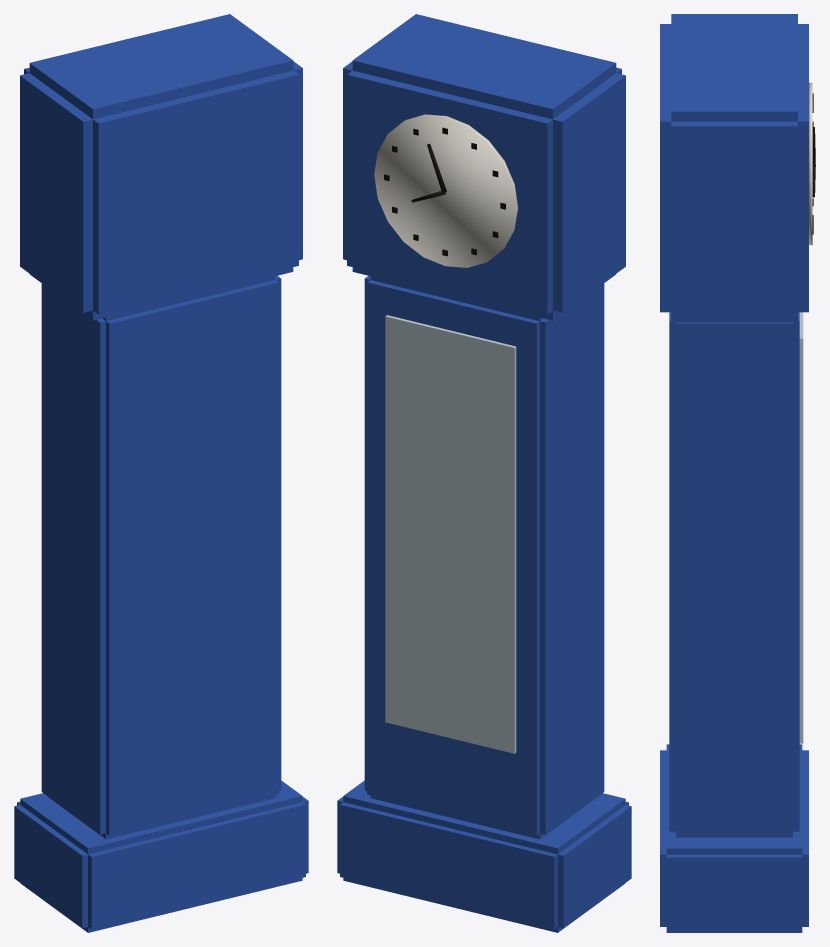
The model's file is mushroom_clock_v0.glb.
3 views of the same model, side by side, from view 1: azimuth 30°, elevation 25°; view 2: azimuth 150°, elevation 25°; view 3: azimuth 270°, elevation 25° (orthographic).
Parts seen in each view (by area): view 1: mushroom_clock_v0; view 2: mushroom_clock_v0; view 3: mushroom_clock_v0.
Boxes of the visible parts, x1,y1,x2,y2 form: mushroom_clock_v0: (14,14,308,932); mushroom_clock_v0: (337,14,631,932); mushroom_clock_v0: (660,14,815,932).
Size of the model in its own units: 0.7 by 2.42 by 0.4185.
